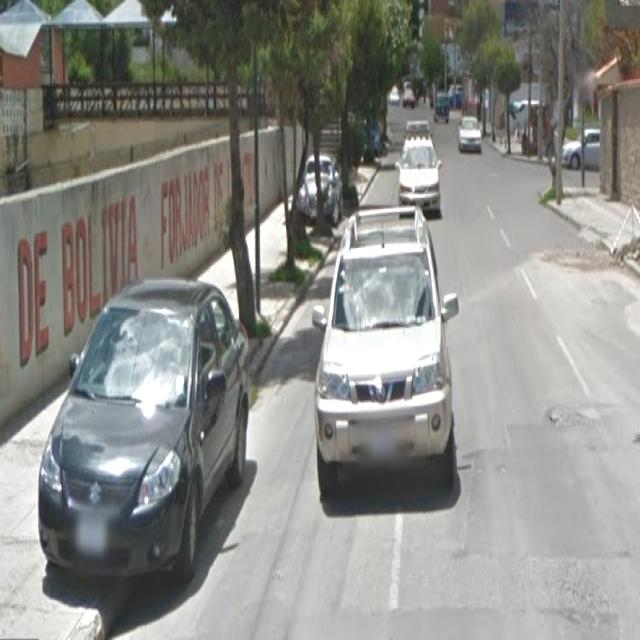car: (52, 277, 248, 592), (323, 207, 456, 503), (398, 133, 446, 220), (458, 116, 496, 161)
